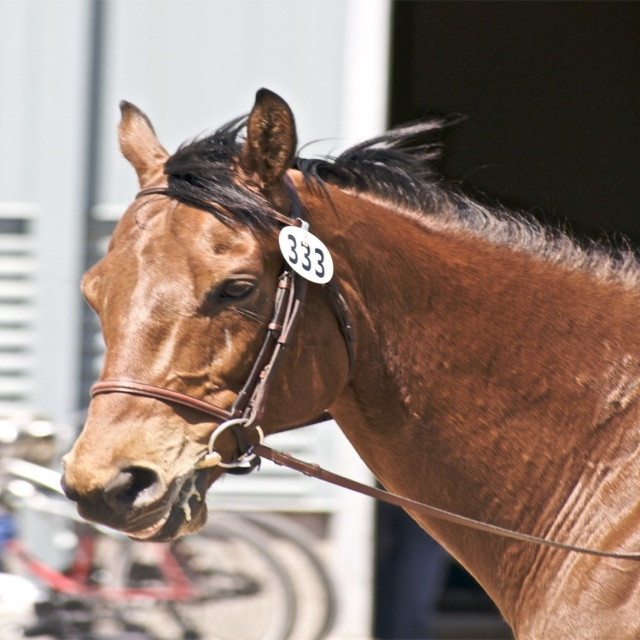Horse: (59, 87, 639, 640)
